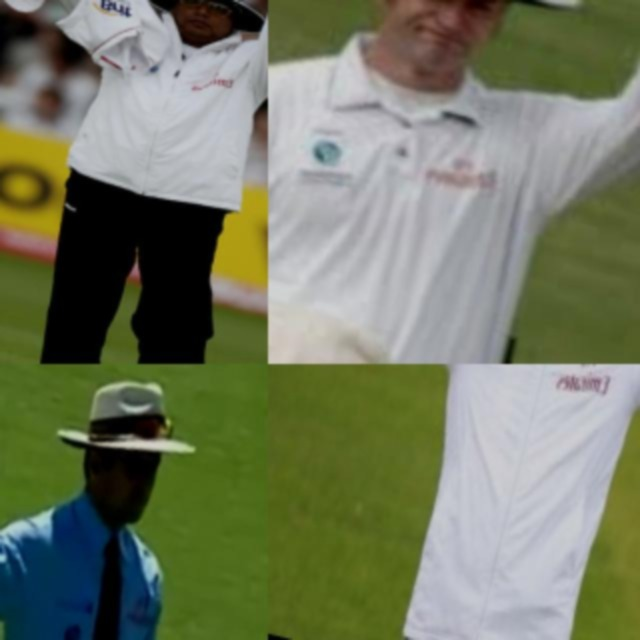No_Ball: (0, 364, 268, 640)
Out: (268, 0, 640, 364)
Six: (0, 0, 268, 364)
Wide: (268, 364, 640, 640)
